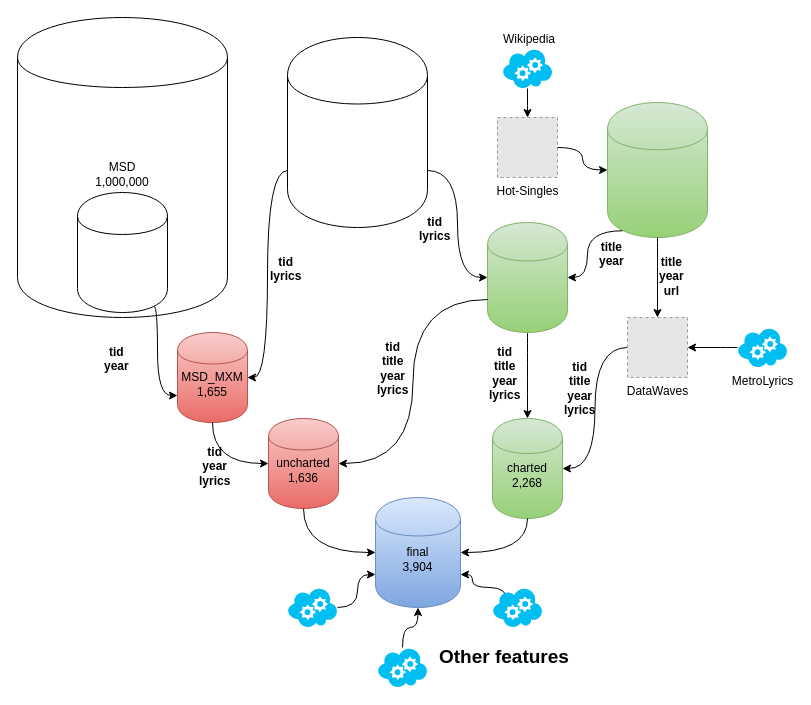
Some shapes in this 811 by 705 pixel diagram are drawn without their labels. Grey dashed boxes stand in for pictures. Each missing label, with the box of its shape:
charted_raw 4,647: (606, 102, 708, 238)
charted_tid 2,892: (486, 222, 568, 332)
MSD_ 10,000: (76, 192, 168, 312)
MXM 237,662: (286, 36, 428, 228)
